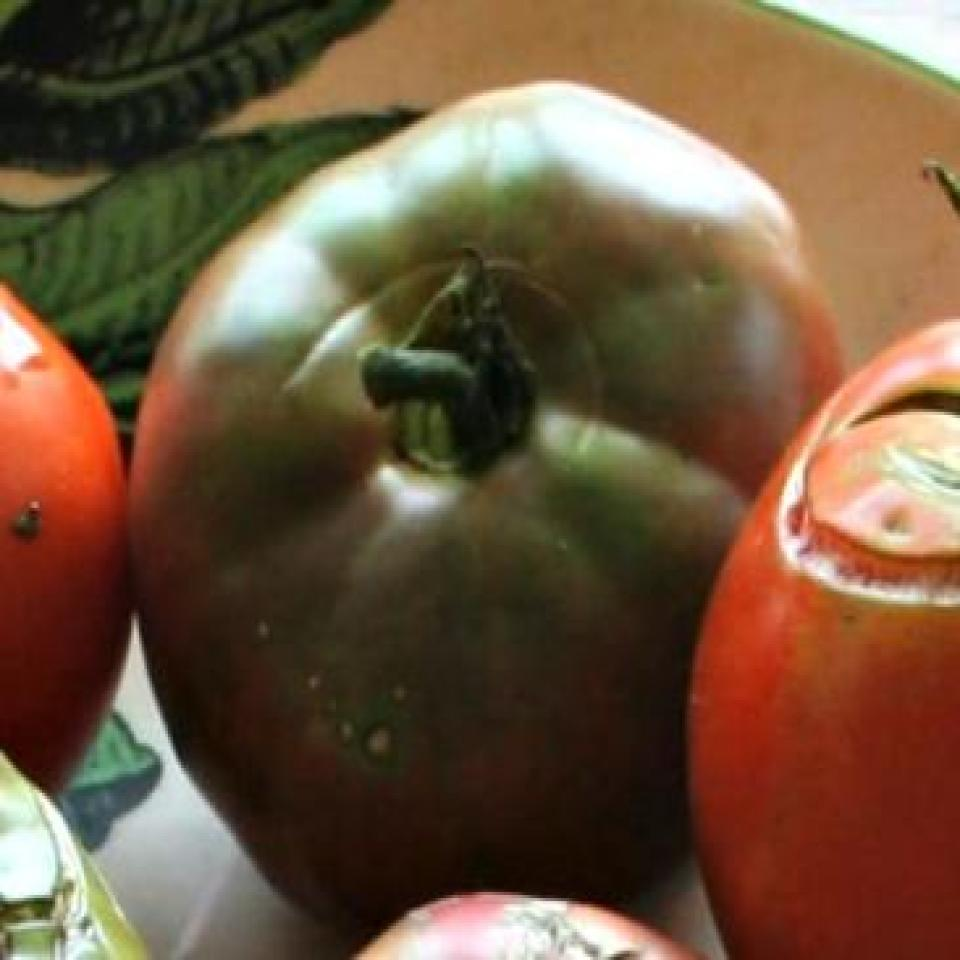Cracking: (773, 352, 957, 643), (262, 252, 551, 388), (482, 253, 634, 457), (824, 364, 958, 434), (485, 886, 615, 948)
